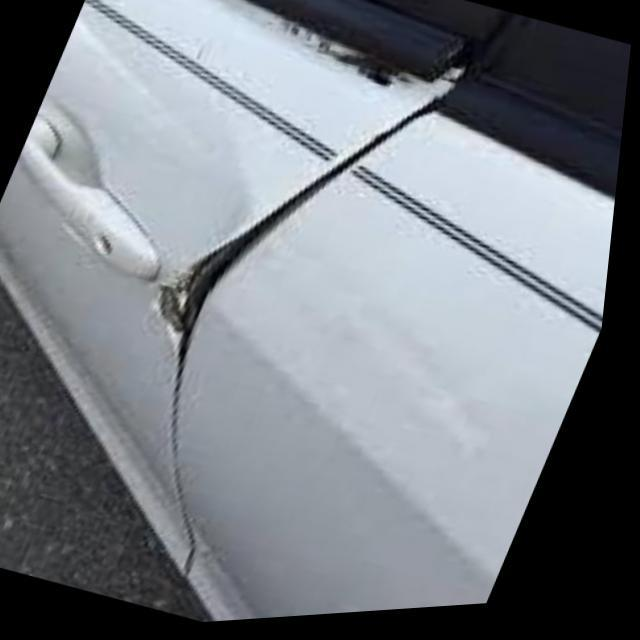crack: (155, 100, 441, 407), (283, 15, 445, 105)
